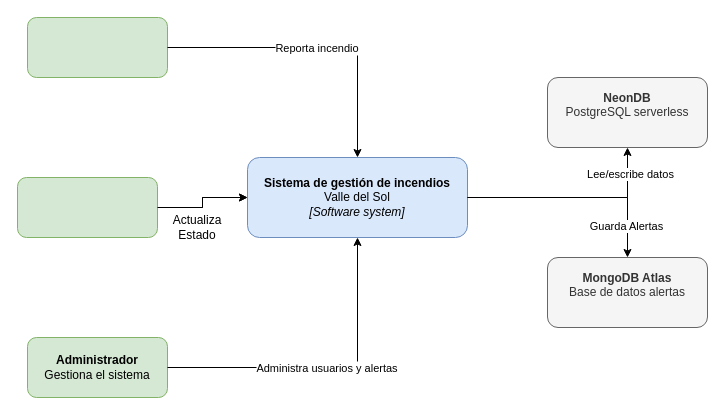
Image size: 725x415. Some labels were removed from this diagram. The box of each missing label's shape, as (x1, y1, x2, y2) in pixels:
Brigadista Gestiona brigadas: (16, 176, 158, 238)
Ciudadano Reporta incendios: (26, 16, 168, 78)
